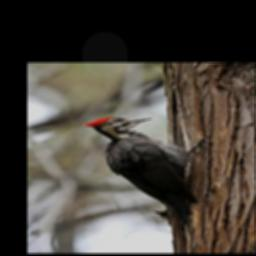Woodpecker: (83, 116, 211, 233)
